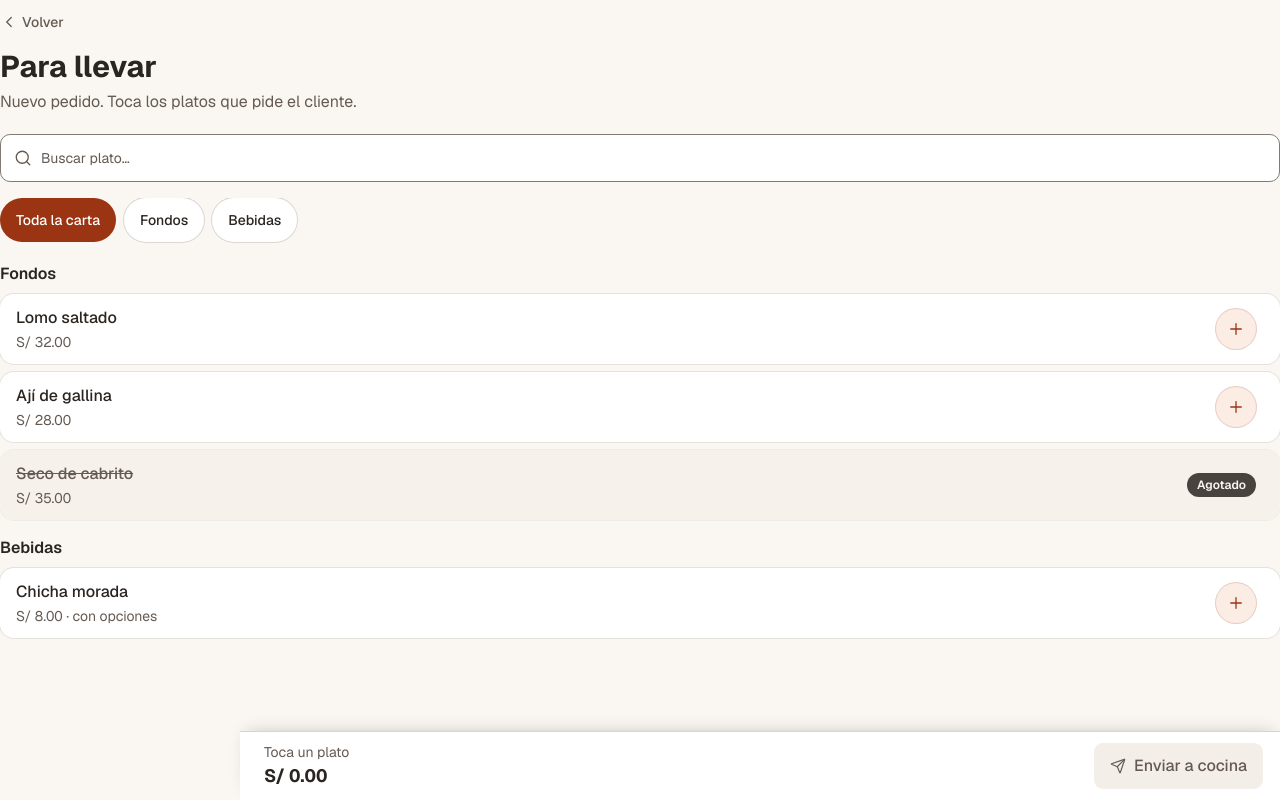
Test: las opciones de un plato › un grupo obligatorio no deja agregar hasta elegir, y el precio suma los extras
Click the button "Chicha morada S/ 8.00 · con opciones": (72, 591) top-left (0, 568), bottom-right (1272, 638)
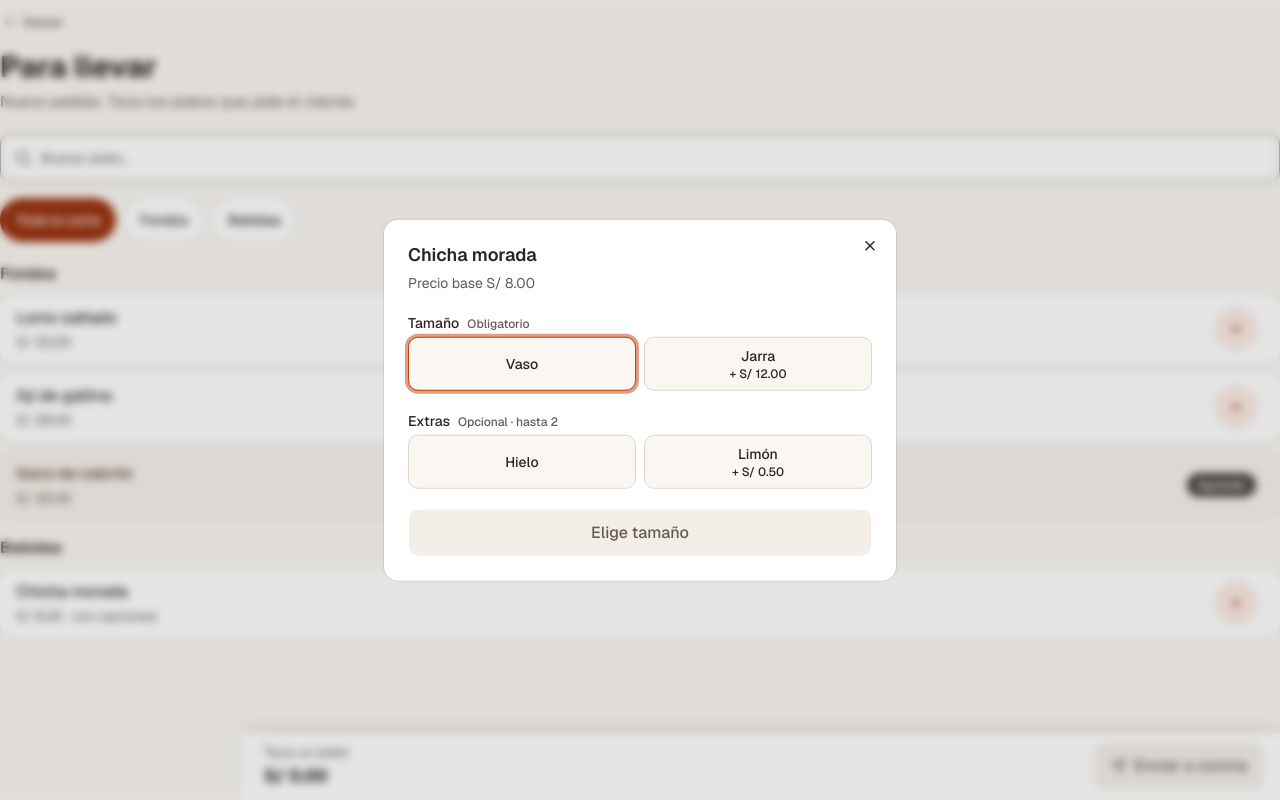
Now the button "Elige tamaño" is disabled, box top-left (408, 508), bottom-right (872, 556)
Click the button "Vaso": (522, 363) top-left (408, 336), bottom-right (636, 390)
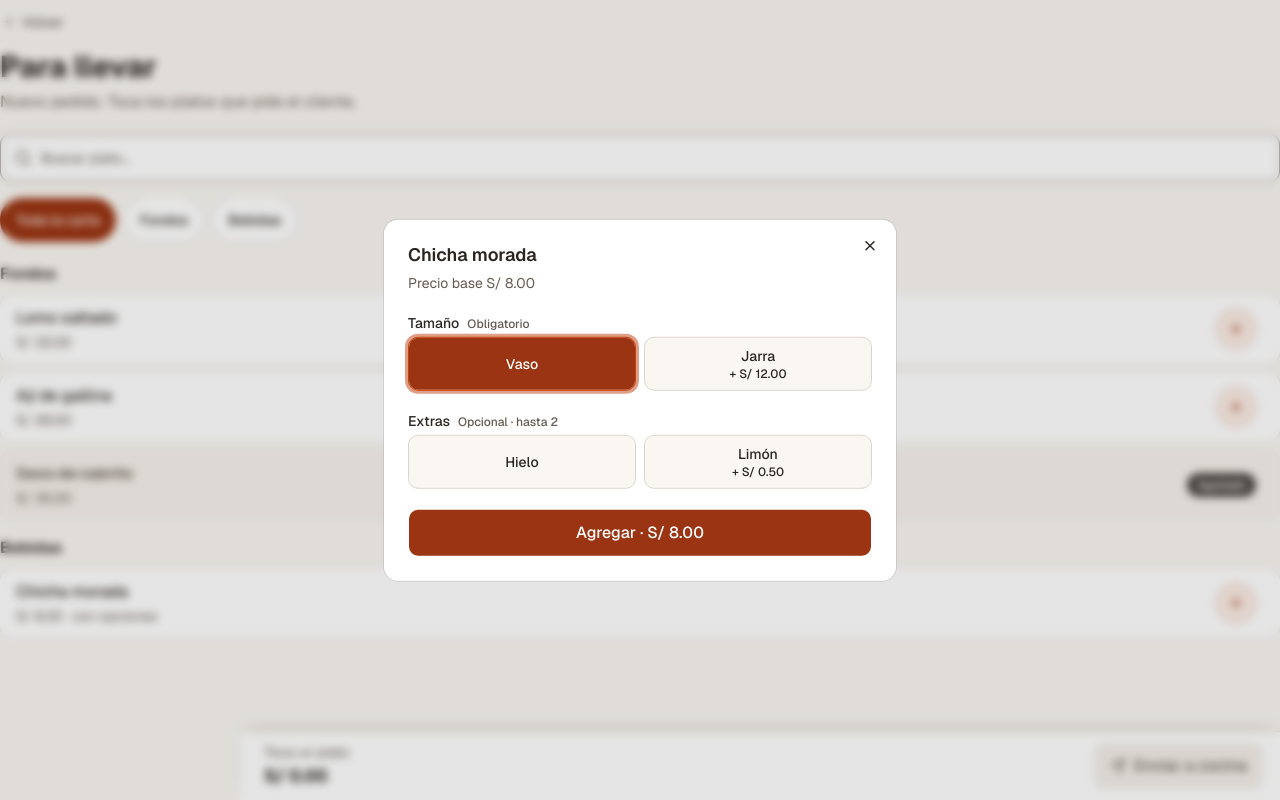
Click the button "Jarra + S/ 12.00": (758, 363) top-left (644, 336), bottom-right (872, 390)
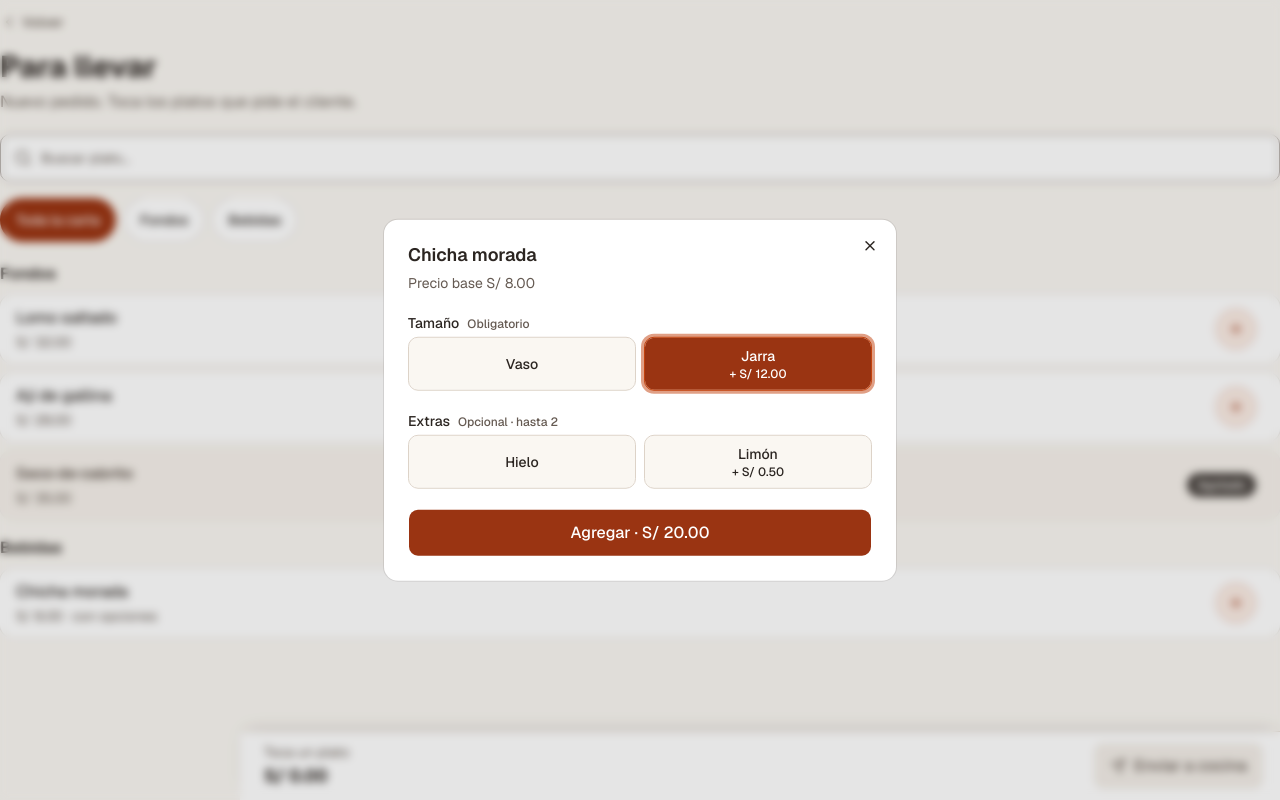
Click the button "Limón + S/ 0.50": (758, 461) top-left (644, 434), bottom-right (872, 488)
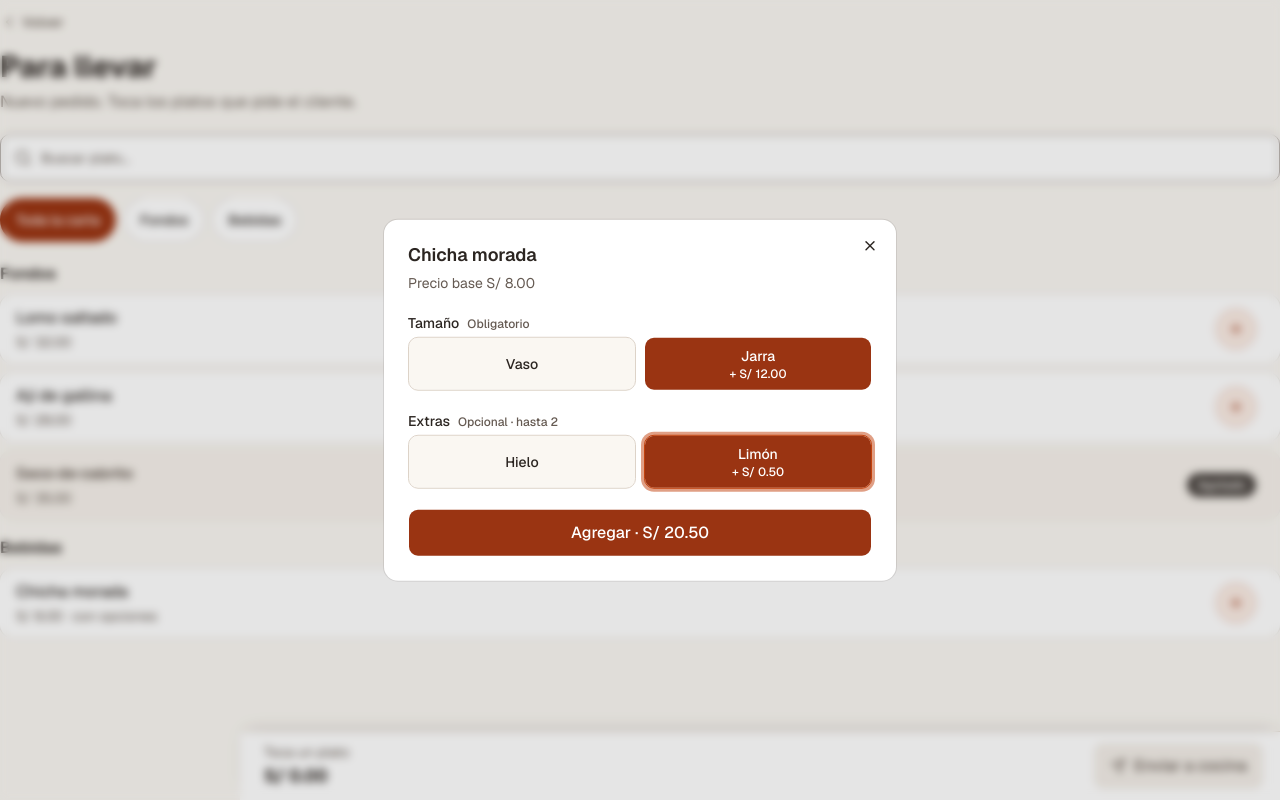
Now the button "Vaso" is not pressed, box top-left (408, 336), bottom-right (636, 390)
Click the button "Agregar · S/ 20.50": (640, 532) top-left (408, 508), bottom-right (872, 556)
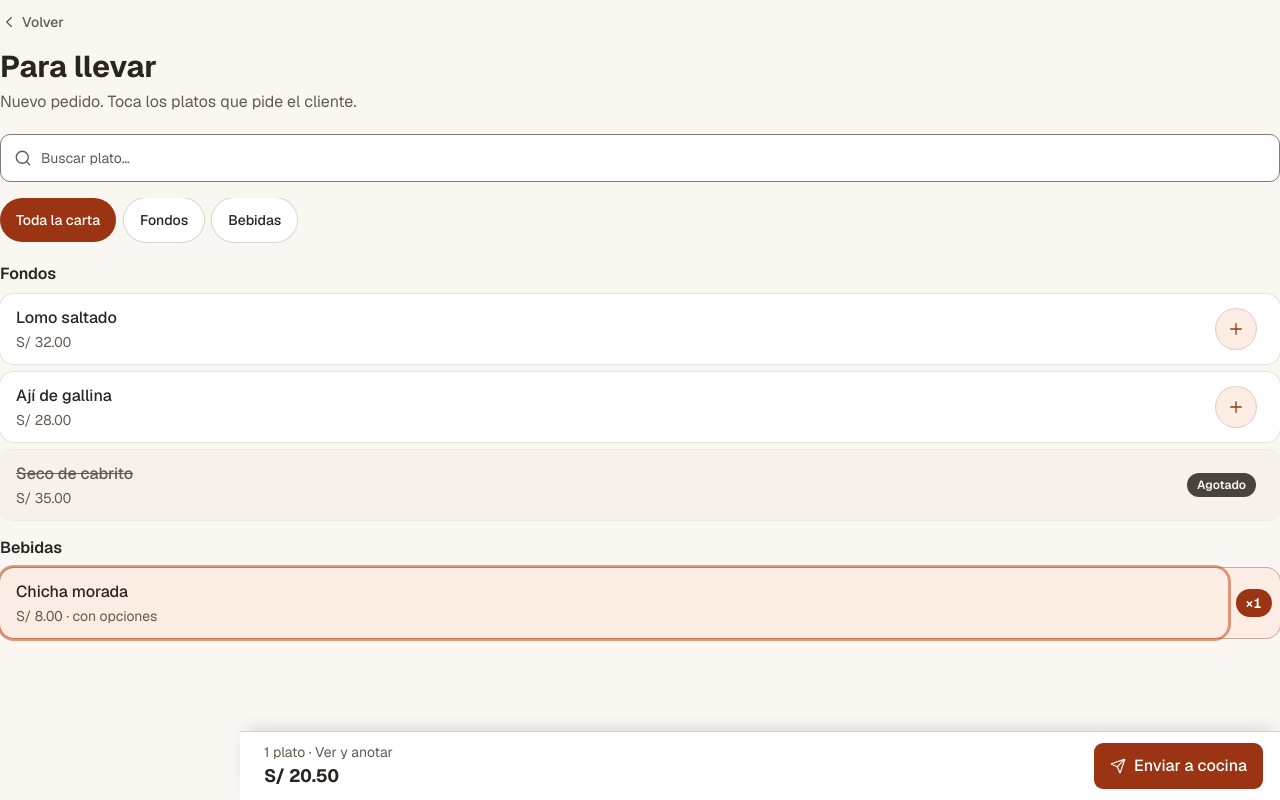
Now the text "×1" is shown, box top-left (1236, 588), bottom-right (1272, 616)
Now the text "1 plato · Ver y anotar" is shown, box top-left (264, 742), bottom-right (393, 762)
